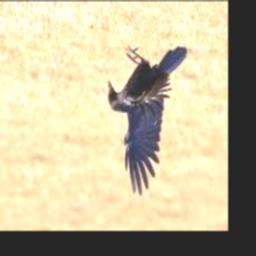Crow: (108, 45, 189, 196)
